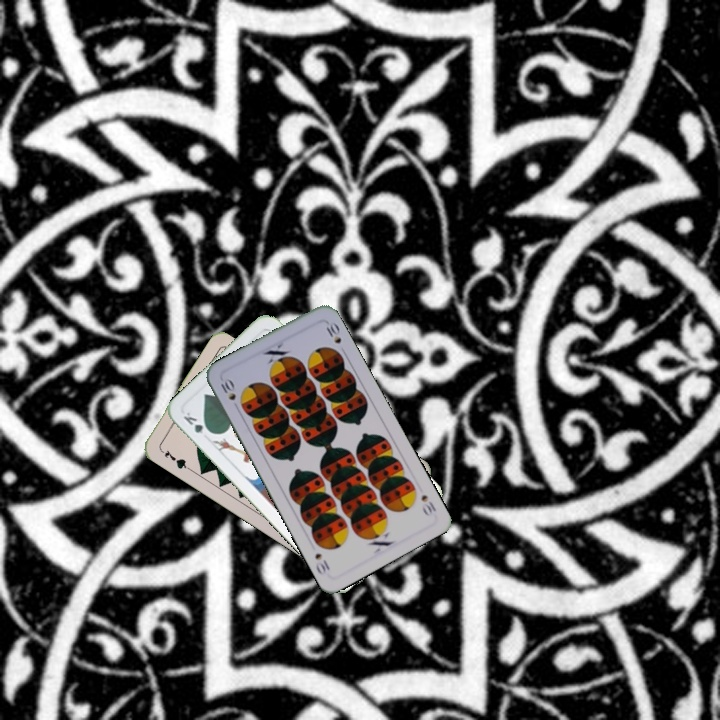G7: (156, 445, 192, 472)
GK: (179, 408, 215, 437)
S10: (216, 374, 238, 403), (417, 490, 439, 519)
